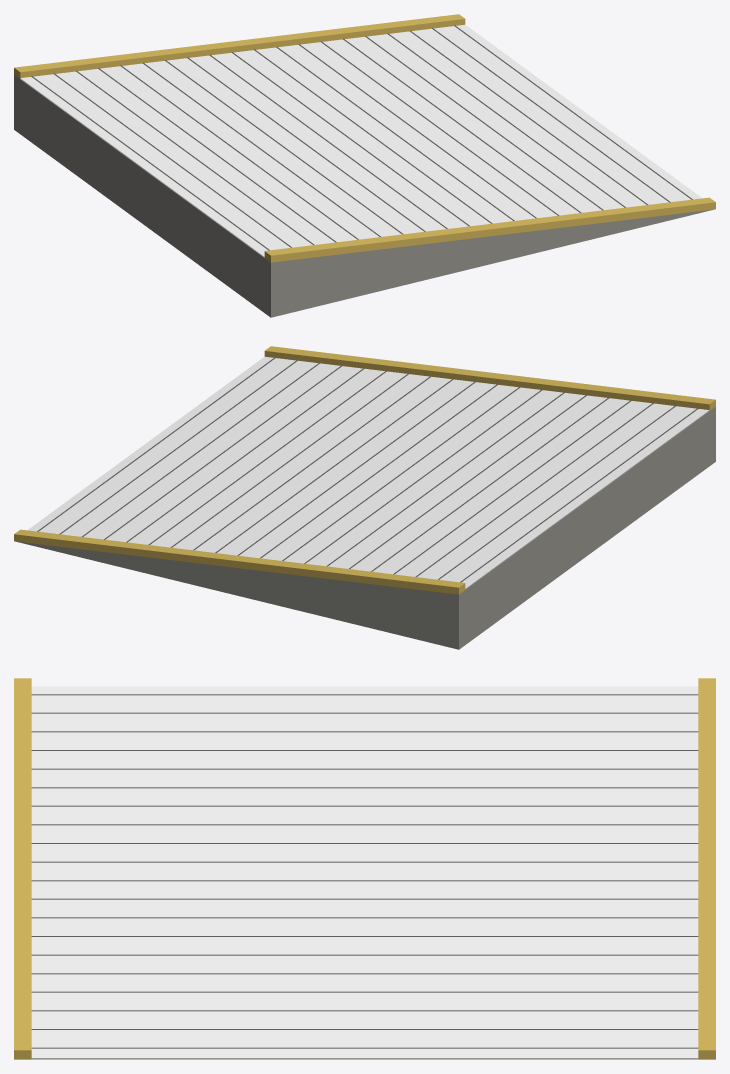
File: garage_ramp_w.glb
3 renders of one model, top to bottom at view 1: azimuth 30°, elevation 25°; view 2: azimuth 150°, elevation 25°; view 3: azimuth 270°, elevation 25°, orthographic. The views are drawn at different scales.
Parts seen in each view (by area): view 1: garage_ramp_w_deck, garage_ramp_w_conc, garage_ramp_w_must, garage_ramp_w_conc_d; view 2: garage_ramp_w_deck, garage_ramp_w_conc, garage_ramp_w_must, garage_ramp_w_conc_d; view 3: garage_ramp_w_deck, garage_ramp_w_conc_d, garage_ramp_w_must, garage_ramp_w_conc.
Boxes of the visible parts, x1=… form: garage_ramp_w_deck: x1=20, y1=24, x2=701, y2=256; garage_ramp_w_conc: x1=14, y1=75, x2=714, y2=317; garage_ramp_w_must: x1=14, y1=14, x2=715, y2=262; garage_ramp_w_conc_d: x1=31, y1=25, x2=692, y2=250; garage_ramp_w_deck: x1=28, y1=356, x2=709, y2=588; garage_ramp_w_conc: x1=15, y1=407, x2=715, y2=649; garage_ramp_w_must: x1=14, y1=346, x2=715, y2=594; garage_ramp_w_conc_d: x1=37, y1=357, x2=698, y2=582; garage_ramp_w_deck: x1=31, y1=686, x2=698, y2=1057; garage_ramp_w_conc_d: x1=31, y1=694, x2=698, y2=1048; garage_ramp_w_must: x1=14, y1=678, x2=715, y2=1059; garage_ramp_w_conc: x1=31, y1=1058, x2=698, y2=1059.
Size of the model in its own units: 12 by 1.6 by 12.
